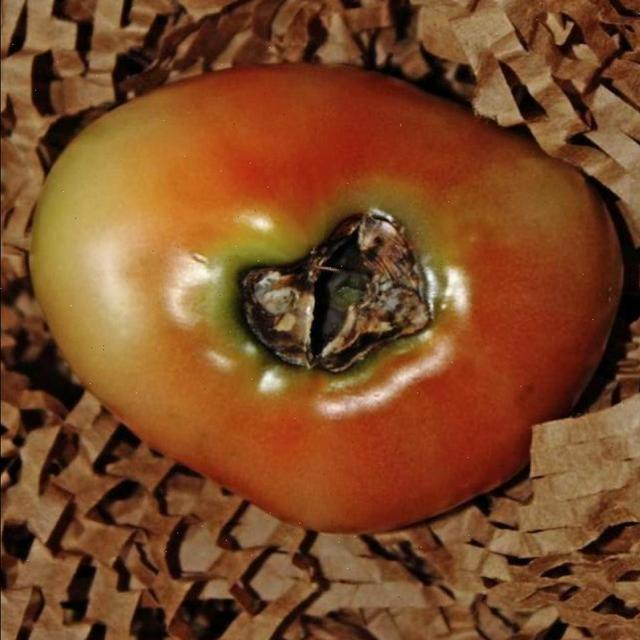Blossom End Rot Fruit: (146, 123, 307, 270)
